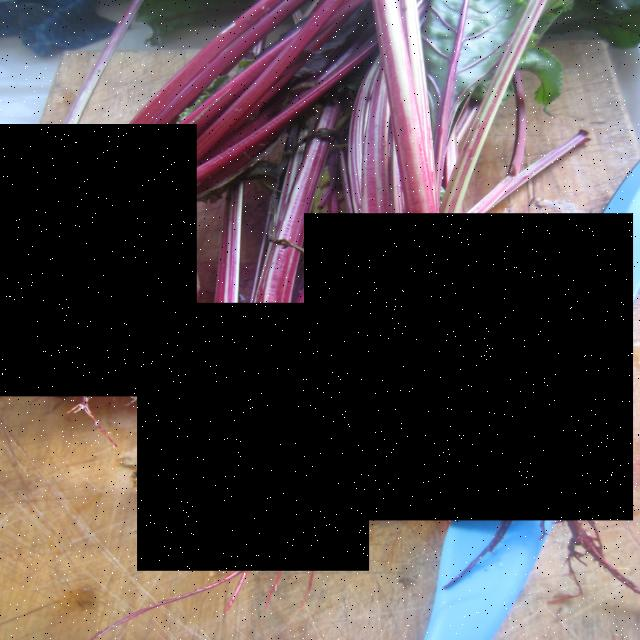Beetroot: (304, 214, 634, 520), (137, 303, 369, 571), (0, 124, 197, 397)
